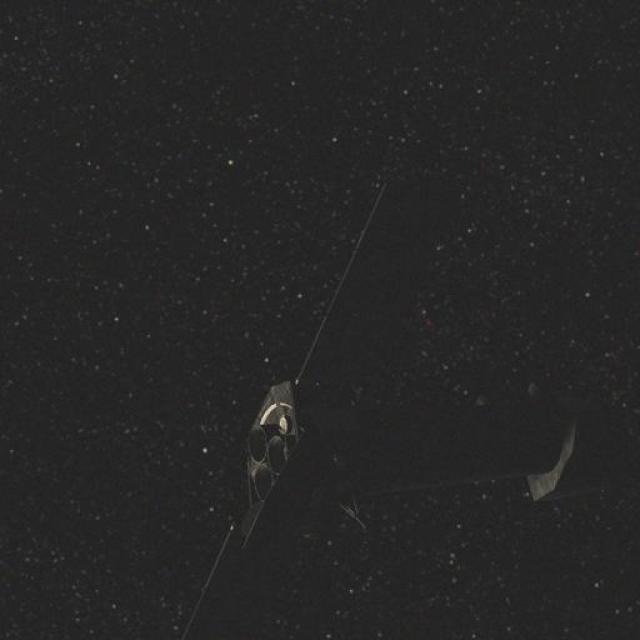xmm_newton: (215, 360, 594, 537)
